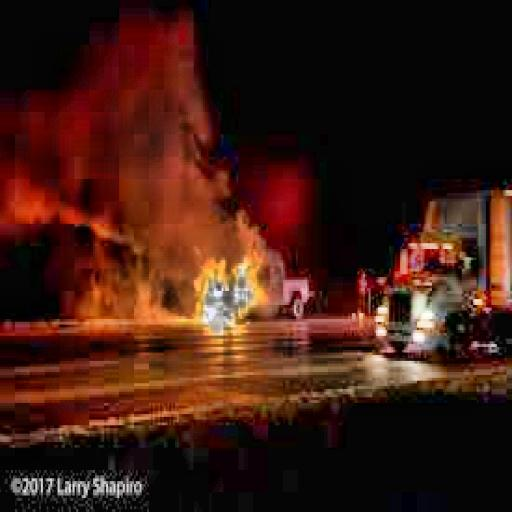fire: (179, 227, 283, 330)
